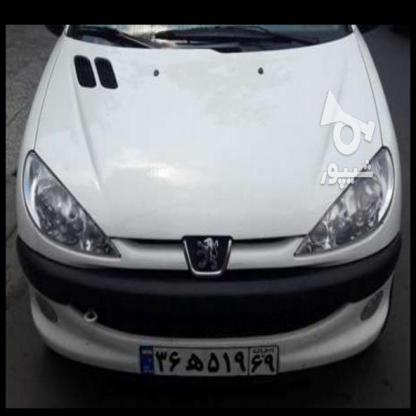licence: (137, 342, 280, 380)
